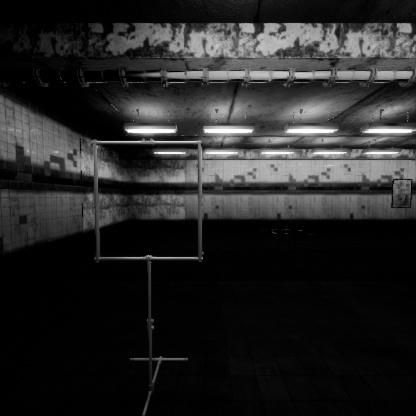gate: (93, 153, 212, 275)
